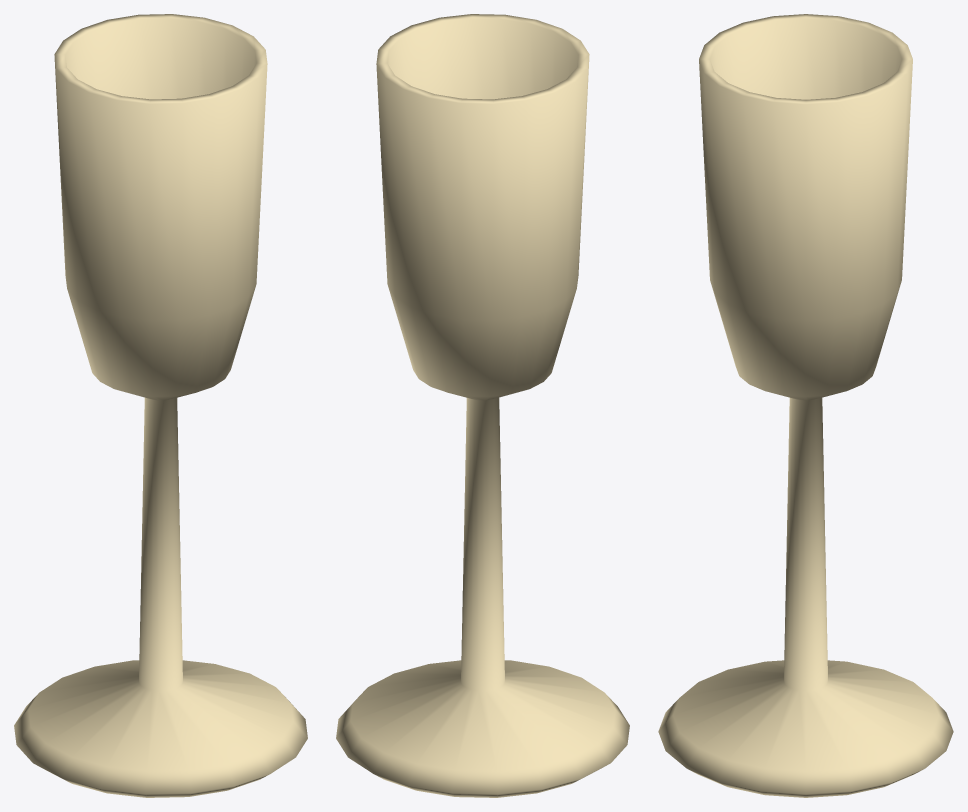
The model's file is champagne-flute.glb.
3 renders of one model, left to right at view 1: azimuth 30°, elevation 25°; view 2: azimuth 150°, elevation 25°; view 3: azimuth 270°, elevation 25°, orthographic.
Visible parts, largest first — view 1: flute-0; view 2: flute-0; view 3: flute-0.
Part boxes in pixels (x1,y1,x2,y2): flute-0: [14, 14, 307, 797]; flute-0: [336, 14, 629, 797]; flute-0: [658, 14, 953, 797].
Bounding box in the file's own units: 0.4 × 1.02 × 0.4.
